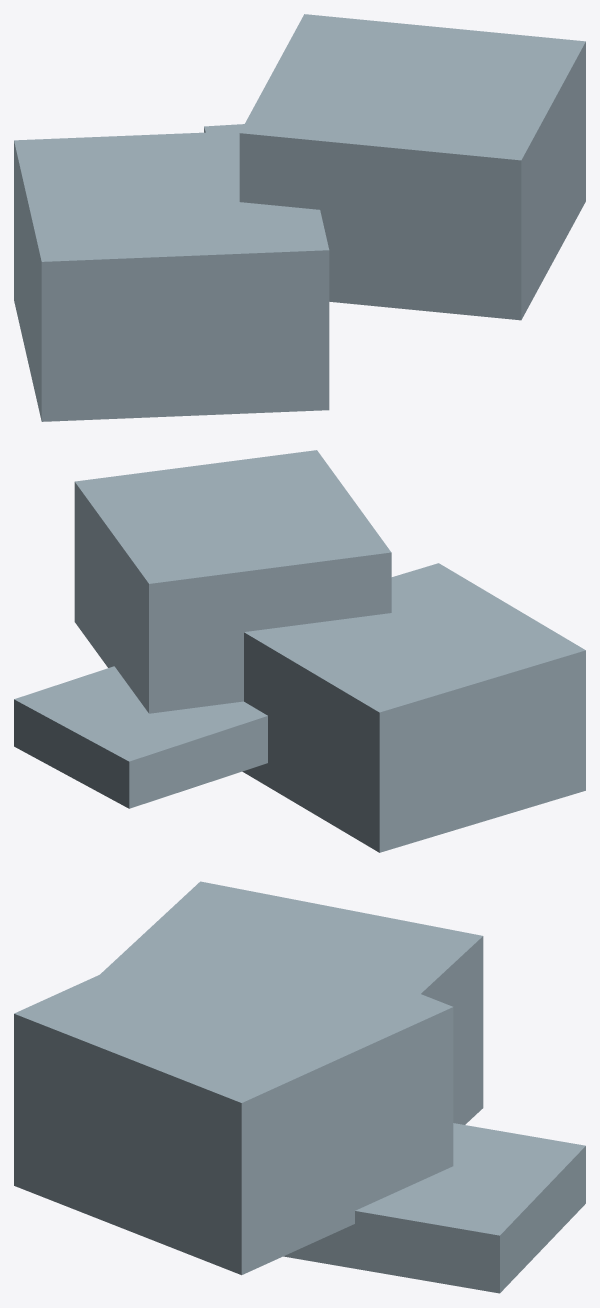
3 views of the same model, one above another, from view 1: azimuth 30°, elevation 25°; view 2: azimuth 150°, elevation 25°; view 3: azimuth 270°, elevation 25° (orthographic). The views are drawn at different scales.
Visible parts, largest first — view 1: Cube__28_, Cube__29_; view 2: Cube__29_, Cube__28_, Cube__30_; view 3: Cube__28_, Cube__30_, Cube__29_.
Boxes of the visible parts, <box> form: Cube__28_: <box>239,14,585,320</box>; Cube__29_: <box>14,131,329,421</box>; Cube__29_: <box>242,563,585,852</box>; Cube__28_: <box>74,450,391,713</box>; Cube__30_: <box>14,666,267,808</box>; Cube__28_: <box>14,917,453,1275</box>; Cube__30_: <box>283,1123,585,1293</box>; Cube__29_: <box>100,881,483,1124</box>.
Size of the model in its own units: 1946 by 755 by 1590.
